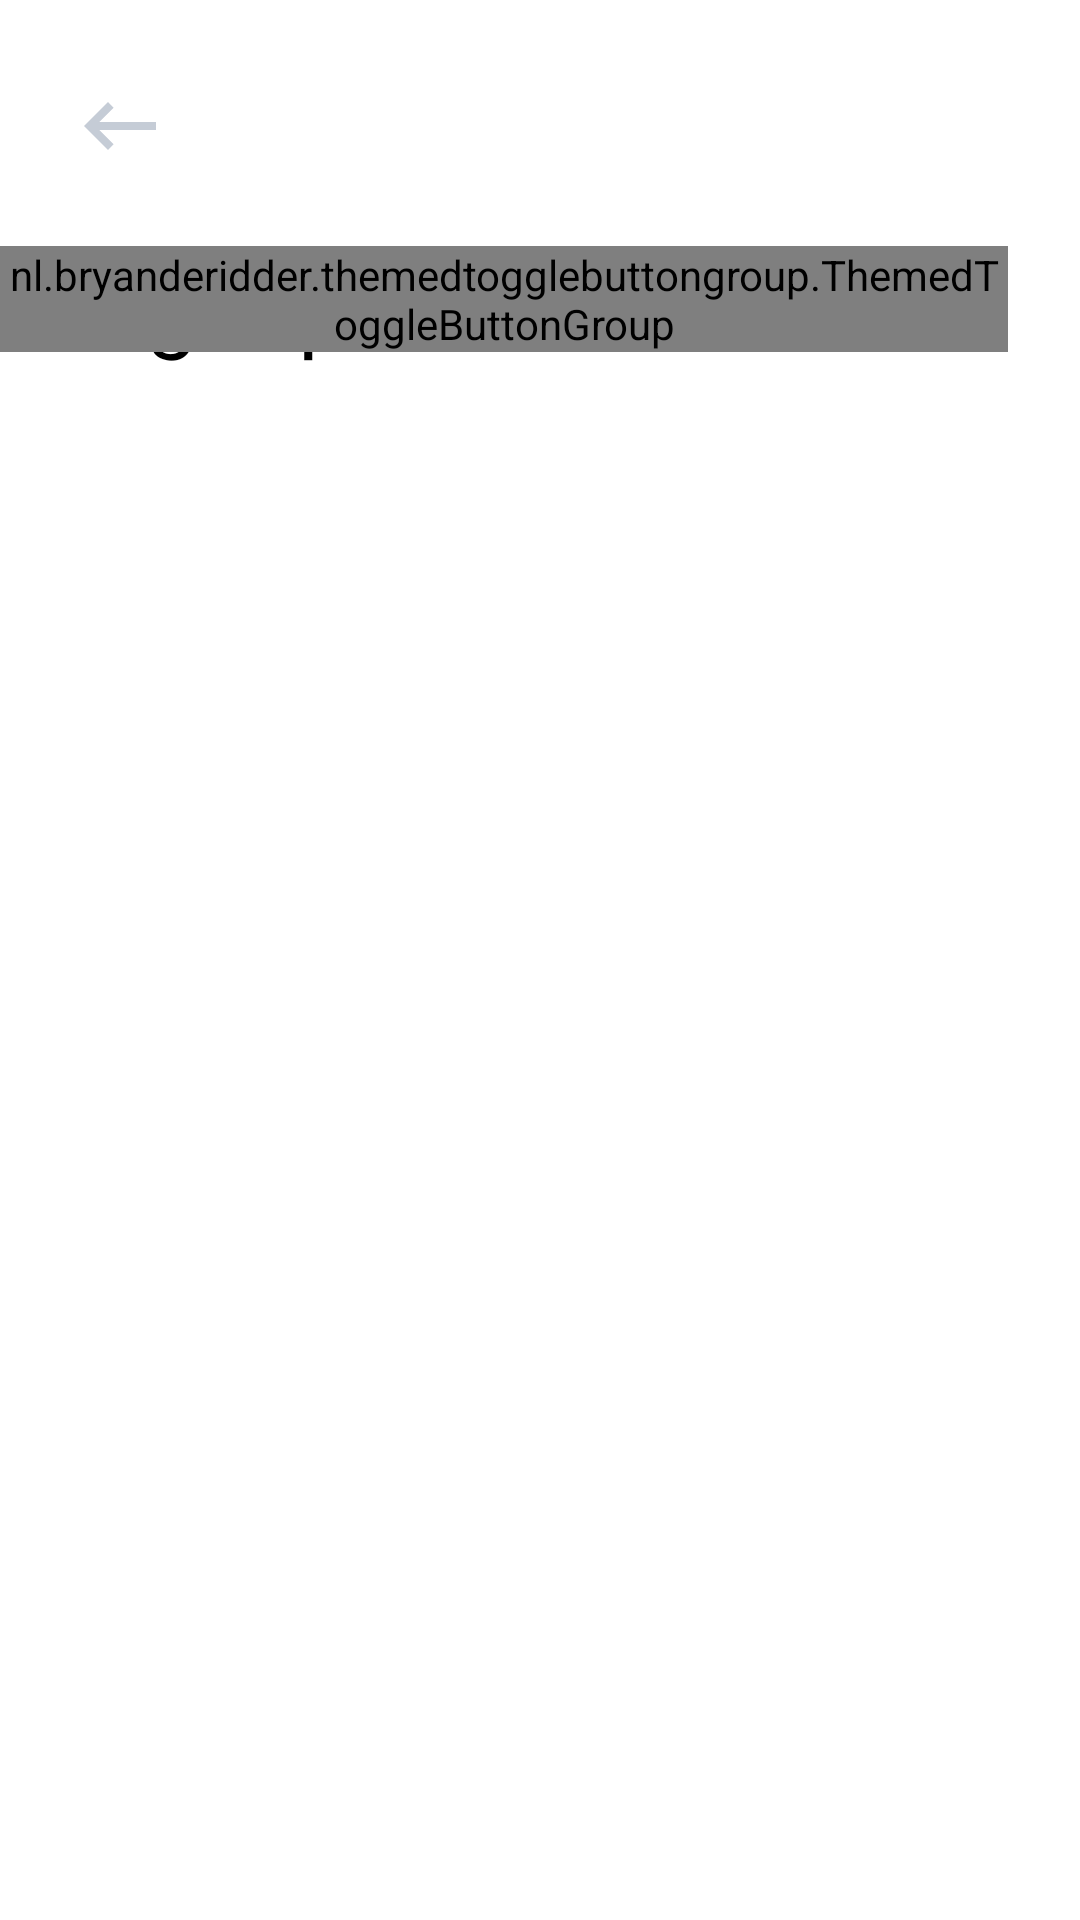

Where to tap for icons on this 1080px×1920px app screen, as point (x, y):
keyboard backspace: point (120, 126)
